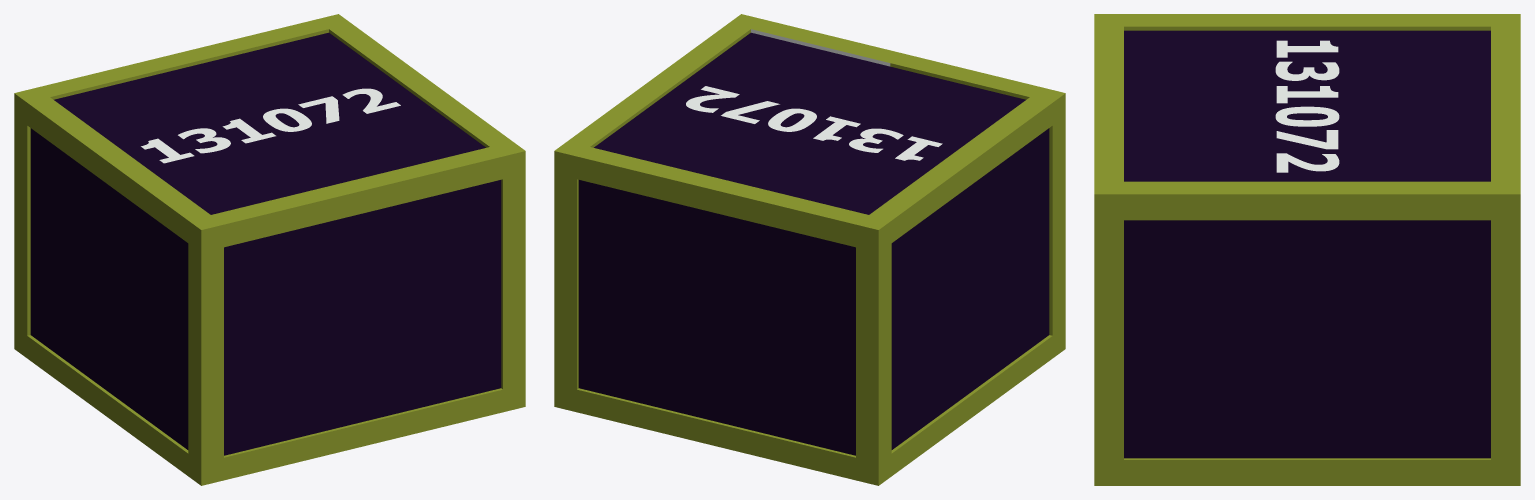
The model's file is 131072Prefab.fbx.
The picture shows the model from 3 angles, left to right: view 1: azimuth 30°, elevation 25°; view 2: azimuth 150°, elevation 25°; view 3: azimuth 270°, elevation 25°; orthographic projection. The views are drawn at different scales.
Parts seen in each view (by area): view 1: Text.016; view 2: Text.016; view 3: Text.016.
Boxes of the visible parts, box(x1,y1,x2,y2) form: Text.016: box(14, 14, 525, 485); Text.016: box(554, 14, 1065, 485); Text.016: box(1094, 14, 1520, 485).
Bounding box in the file's own units: 194 × 146 × 194.
